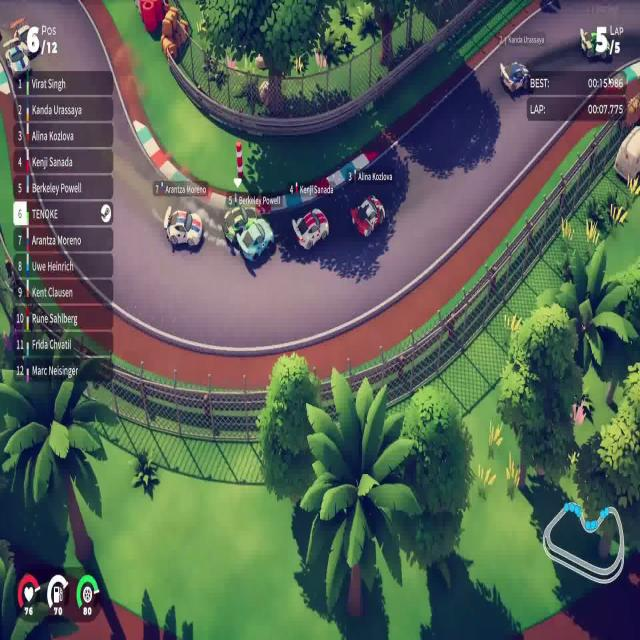car: (163, 204, 203, 250), (235, 216, 274, 263), (292, 207, 330, 252), (350, 193, 386, 239), (498, 60, 530, 94)
